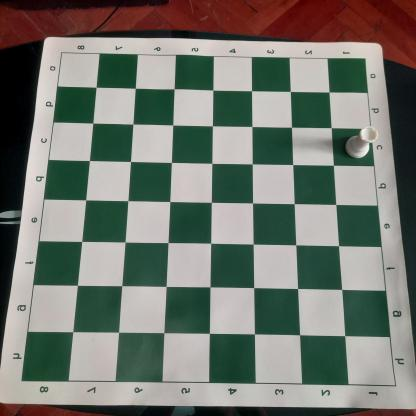white-rook: (339, 125, 380, 161)
